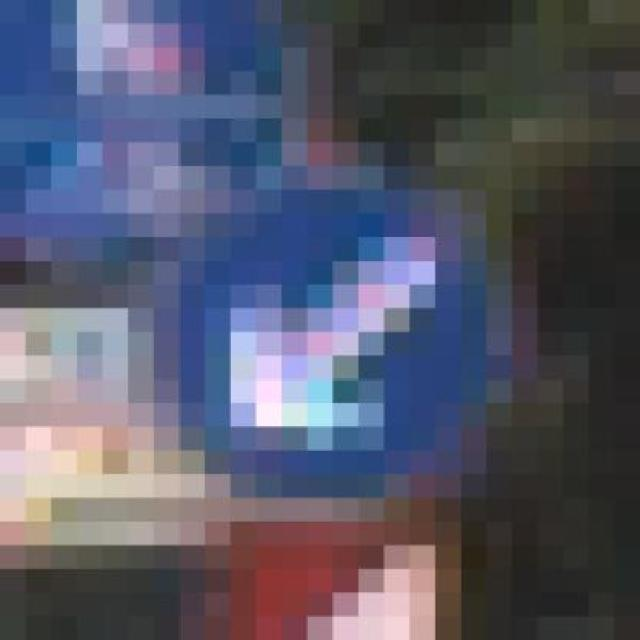Keep-Left: (128, 166, 538, 522)
